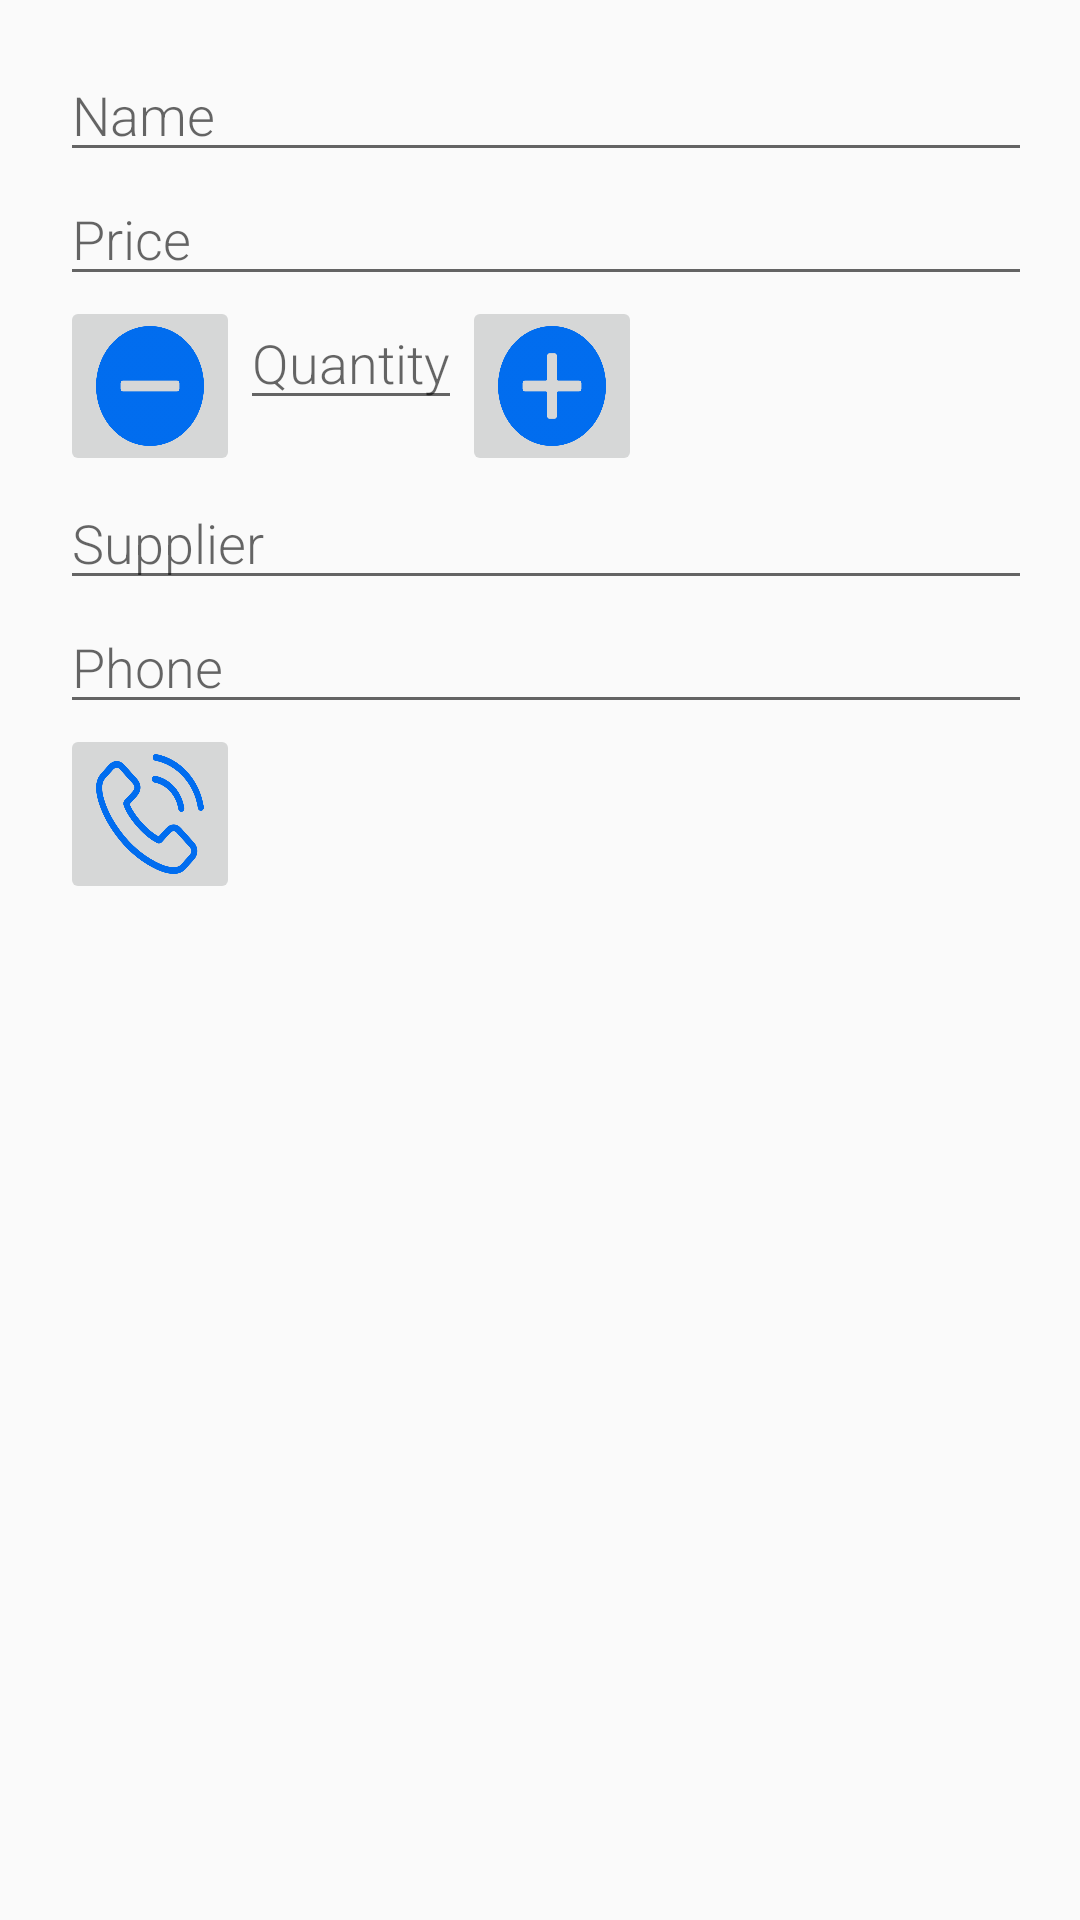

Icons on this 1080x1920 Android screen, each with its box as (x1, y1, x2, y2):
plus: (474, 314, 630, 458)
